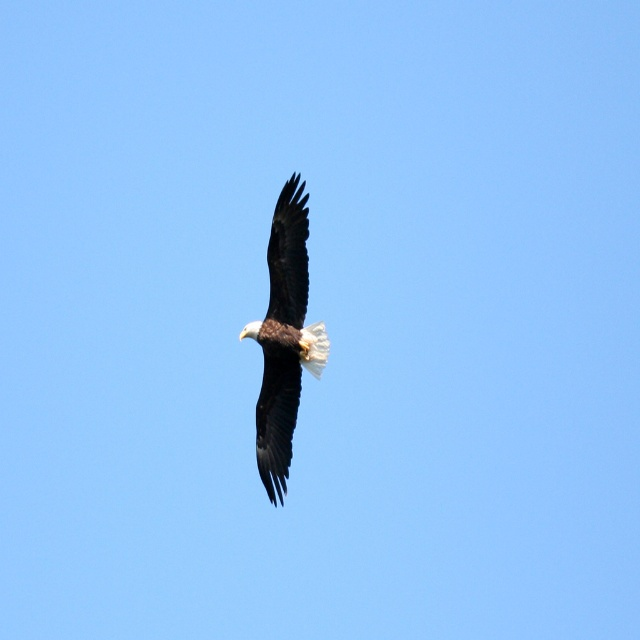Eagle: (239, 169, 329, 506)
